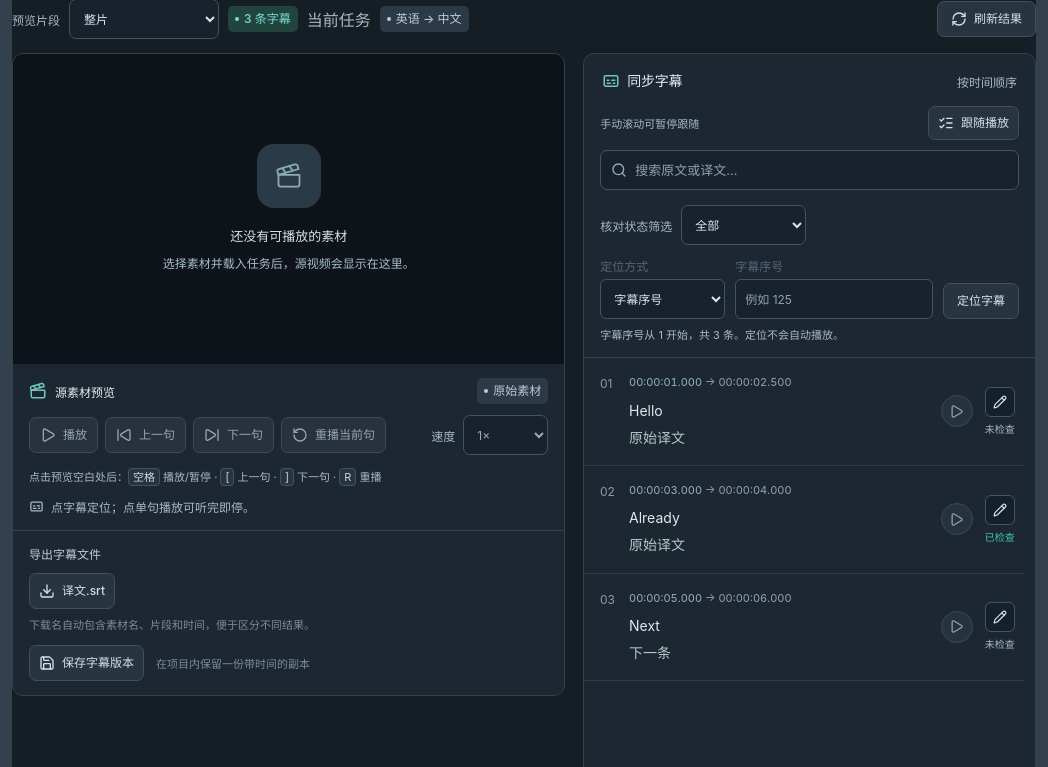
Test: 连续人工核对 › keeps the current edited cue after 磁盘写入失败 without retrying
Step 1. Click the button named "编辑第 1 句" → click(1000, 402), box [985,386,1015,416]
(page scrolled)
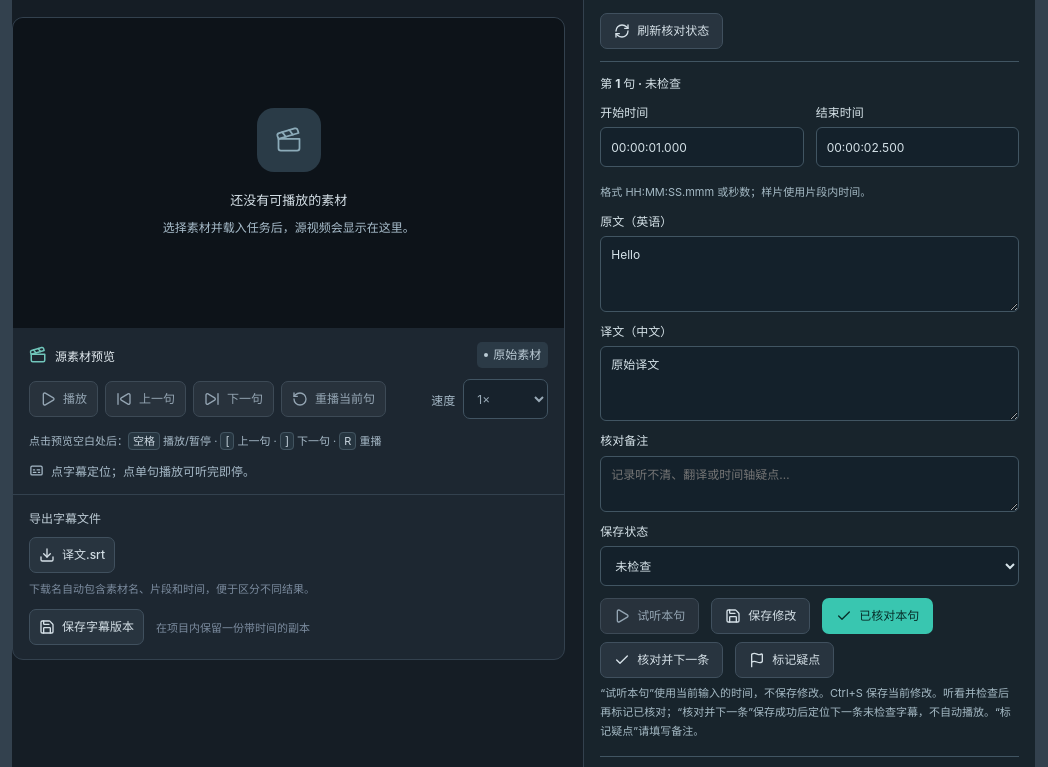
Step 2. Replace the text in the text box labelled "译文（中文）" with "保留这次修改" → (810, 384), box [600,346,1019,422]
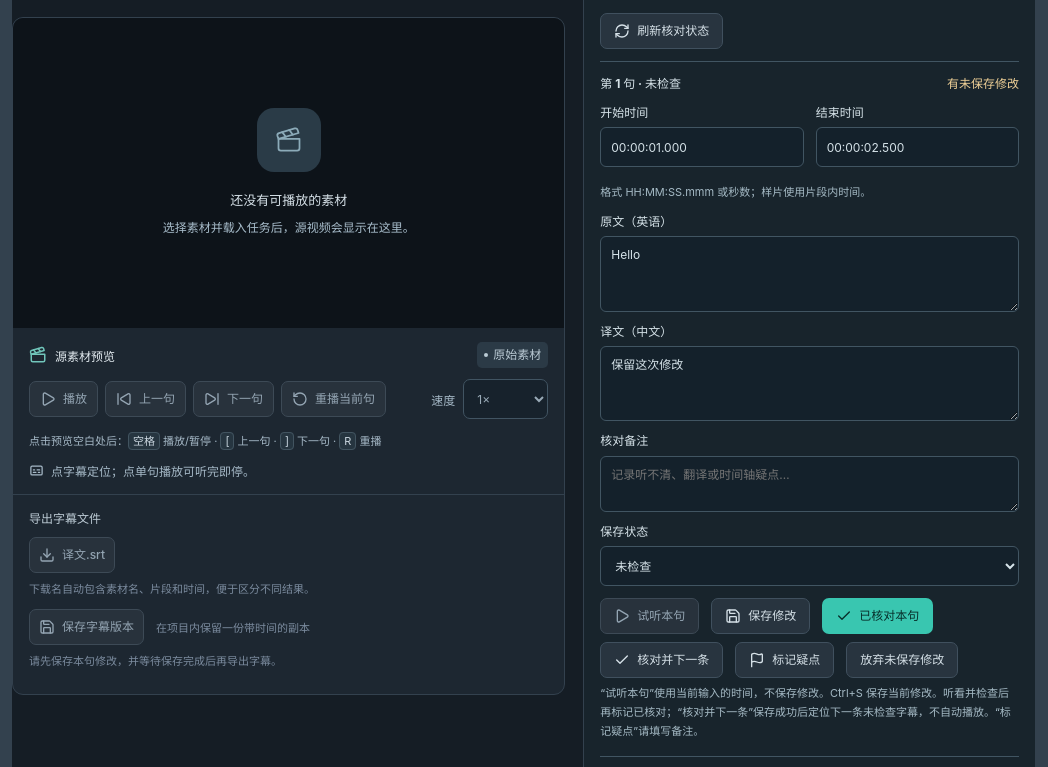
Step 3. Click the button "核对并下一条" → click(662, 660), box [600,642,723,678]
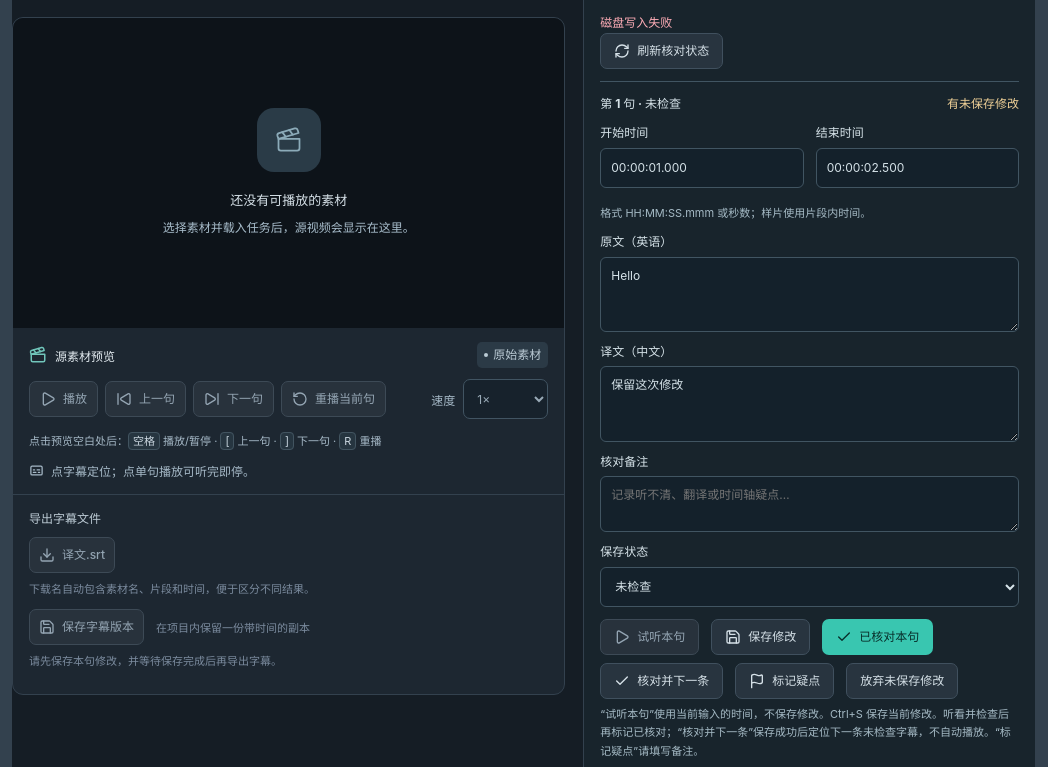
Now the message reads "磁盘写入失败", box [600,15,672,30]
